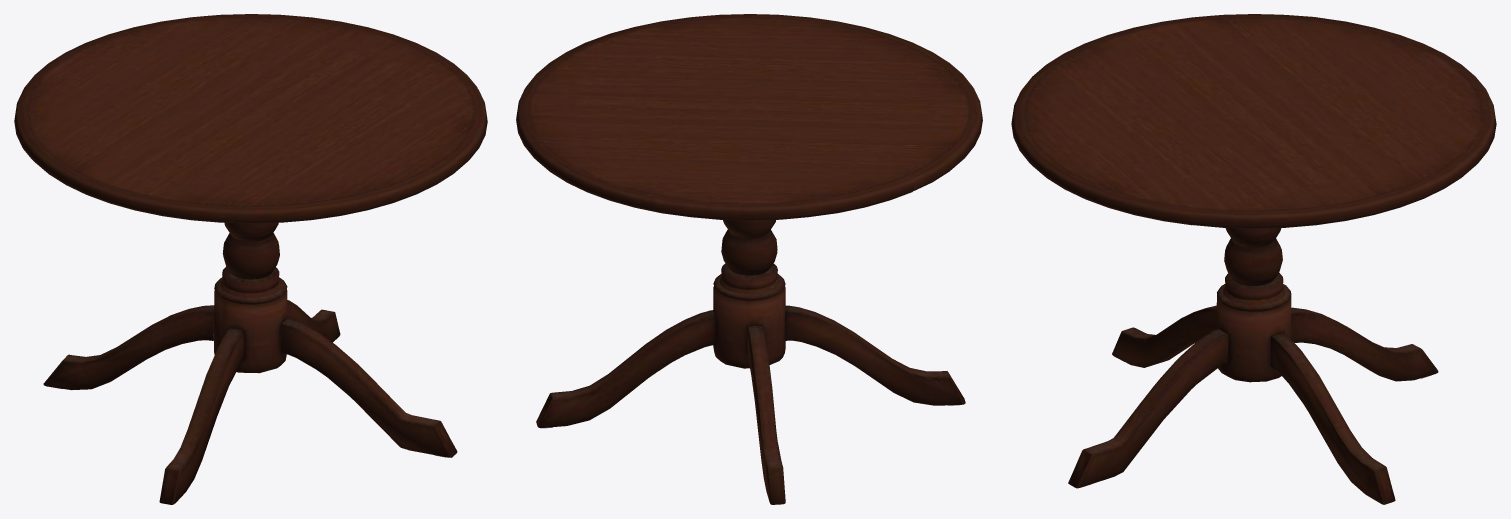
Rendered from round_wooden_table_01.glb.
3 renders of one model, left to right at view 1: azimuth 30°, elevation 25°; view 2: azimuth 150°, elevation 25°; view 3: azimuth 270°, elevation 25°, orthographic. The views are drawn at different scales.
Parts seen in each view (by area): view 1: round_wooden_table_01; view 2: round_wooden_table_01; view 3: round_wooden_table_01.
Boxes of the visible parts, bbox=[...] form: round_wooden_table_01: bbox=[14, 14, 487, 504]; round_wooden_table_01: bbox=[516, 14, 982, 504]; round_wooden_table_01: bbox=[1011, 14, 1496, 504].
Size of the model in its own units: 1.4 by 1 by 1.4.
Materials: 1 (1 with a texture image).
